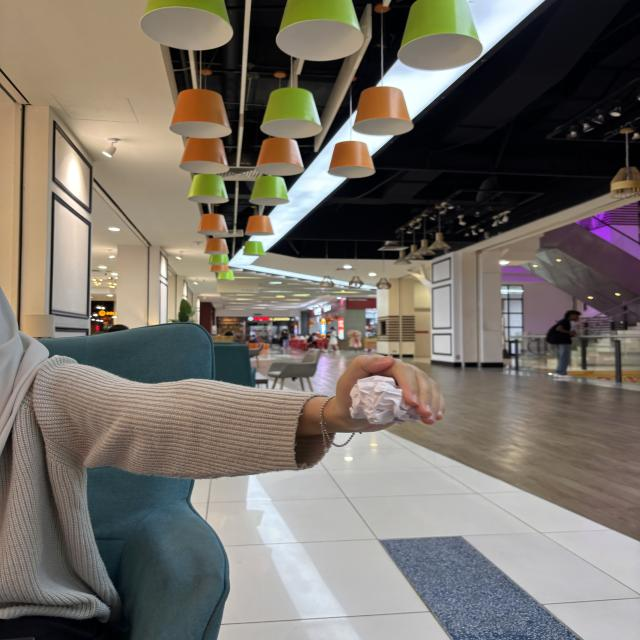crumpled_paper: (342, 369, 416, 432)
